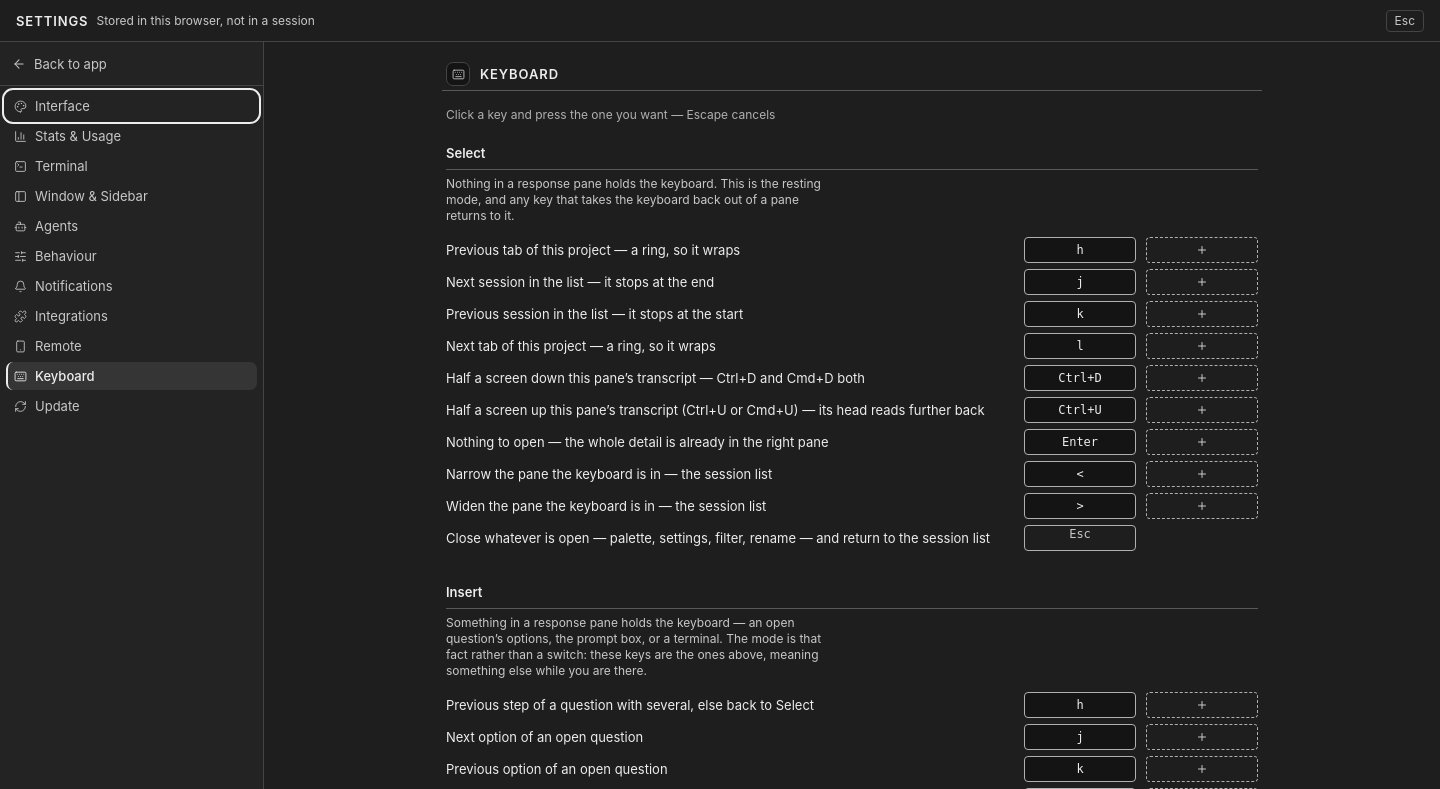
Test: the keyboard panel draws that split › arms one capture box, even though the binding is drawn in both modes
Step 1. Click the 1st button "h" → (1080, 250), box [1024,237,1136,263]
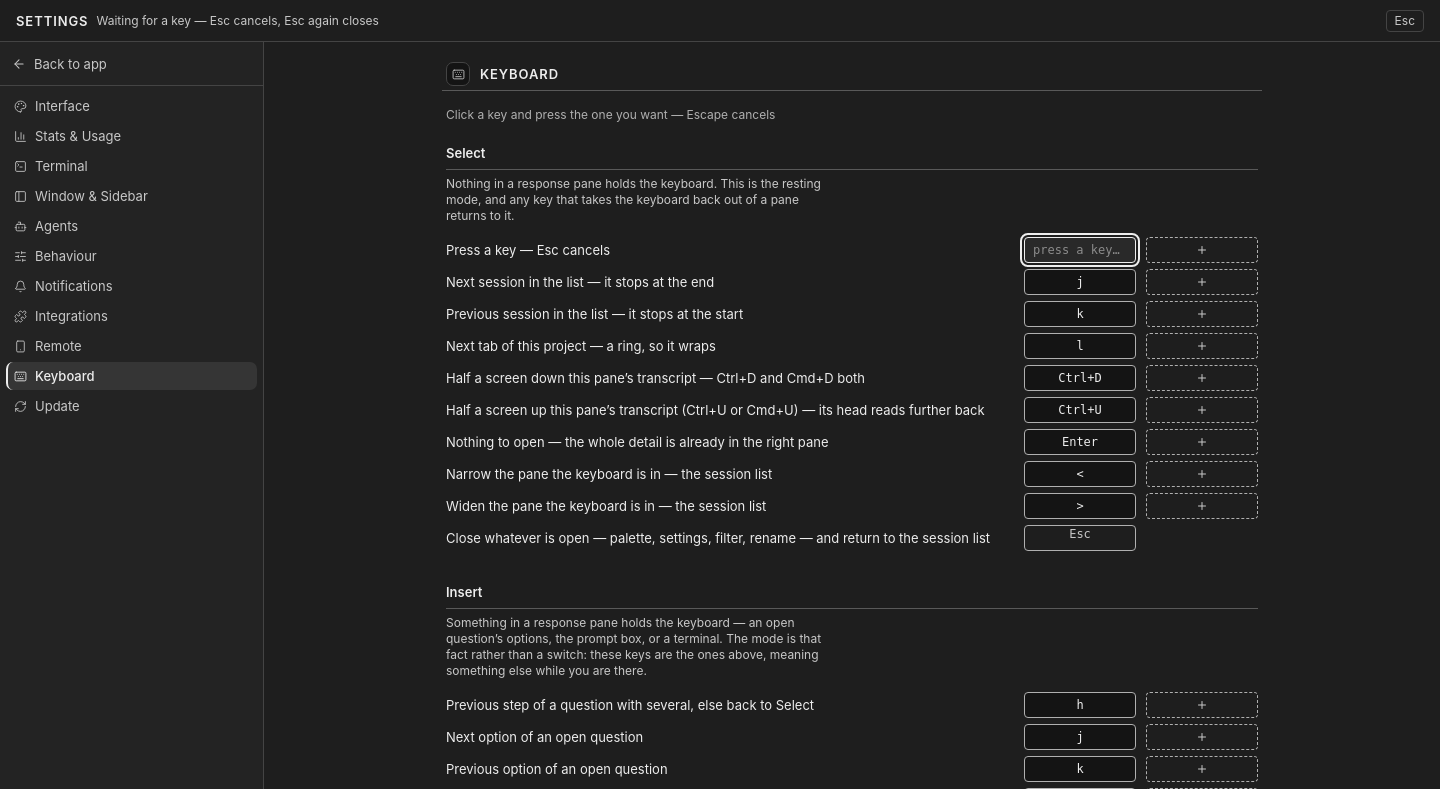
Result: the number of fields is 1 at [1024,237,1136,263]
